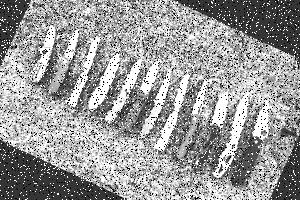knife: (168, 77, 222, 164), (185, 89, 239, 176), (206, 94, 260, 181), (149, 70, 197, 158), (117, 56, 164, 137), (61, 34, 108, 111), (42, 26, 88, 100), (101, 55, 145, 132), (135, 66, 179, 142), (19, 18, 67, 87), (82, 49, 125, 119)
